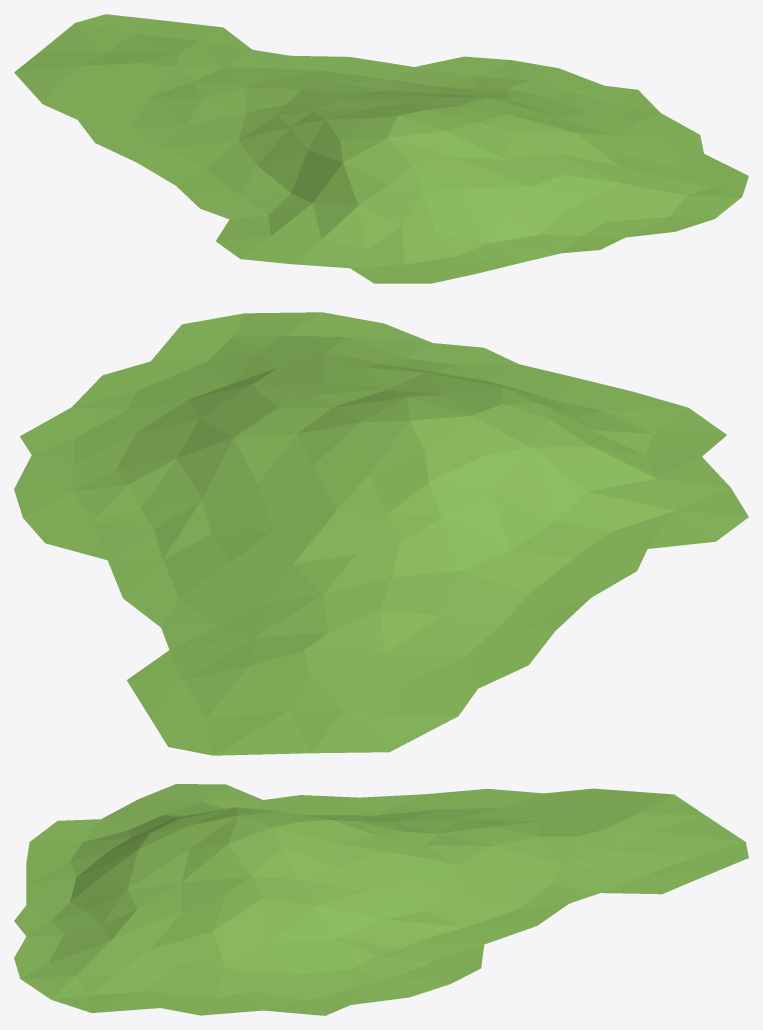
Rendered from MT_Mountain_M_a_06.fbx.
3 renders of one model, top to bottom at view 1: azimuth 30°, elevation 25°; view 2: azimuth 150°, elevation 25°; view 3: azimuth 270°, elevation 25°, orthographic. The views are drawn at different scales.
Parts seen in each view (by area): view 1: MT_Mountain_M_a_06; view 2: MT_Mountain_M_a_06; view 3: MT_Mountain_M_a_06.
Part boxes in pixels (box(x1,y1,x2,y2)): MT_Mountain_M_a_06: box(14, 14, 748, 283); MT_Mountain_M_a_06: box(14, 312, 748, 755); MT_Mountain_M_a_06: box(14, 784, 748, 1015).
Bounding box in the file's own units: 3438 × 404 × 4609.
